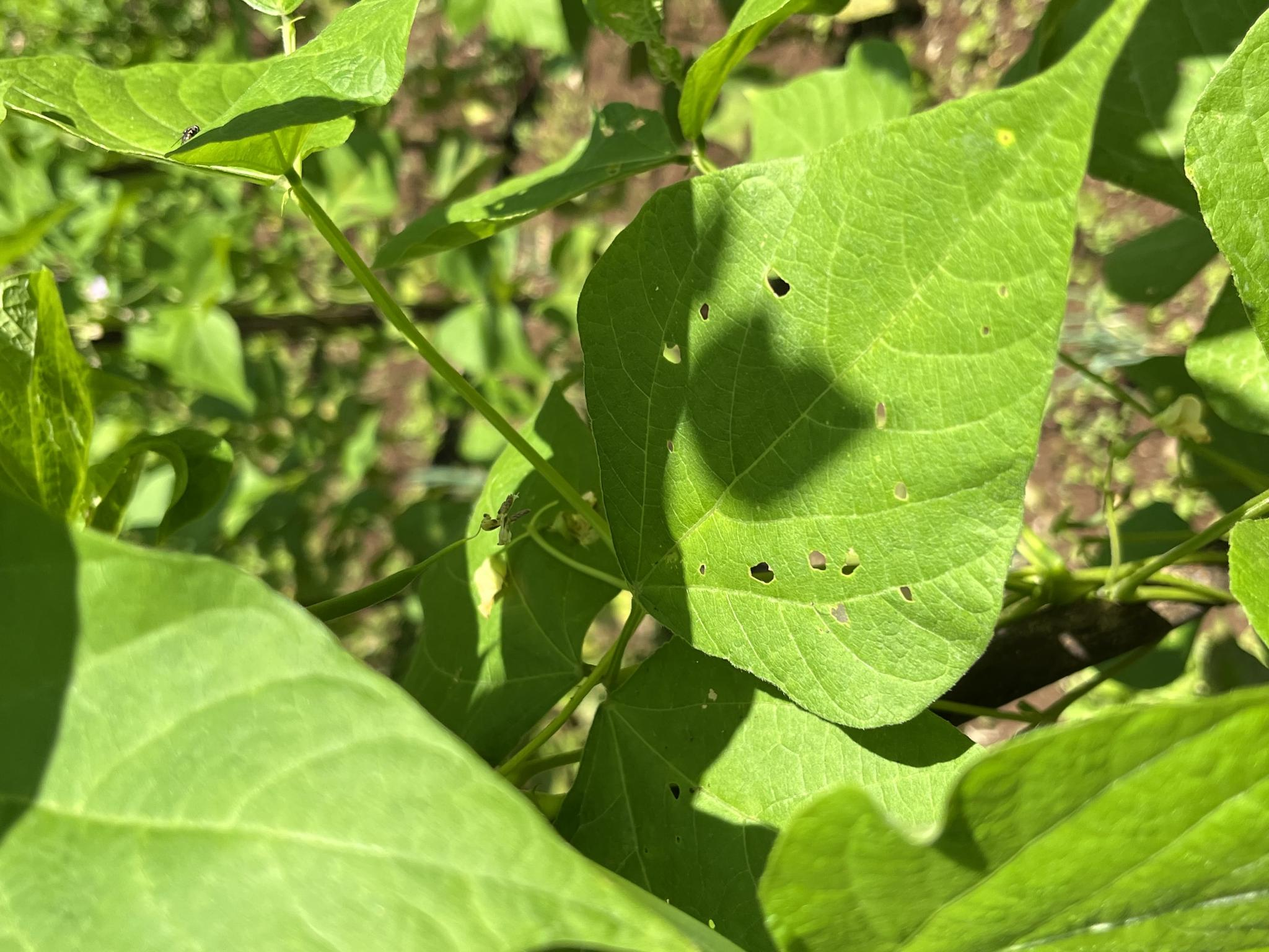mozaik: (799, 541, 879, 602), (747, 265, 818, 308), (743, 549, 783, 589)
